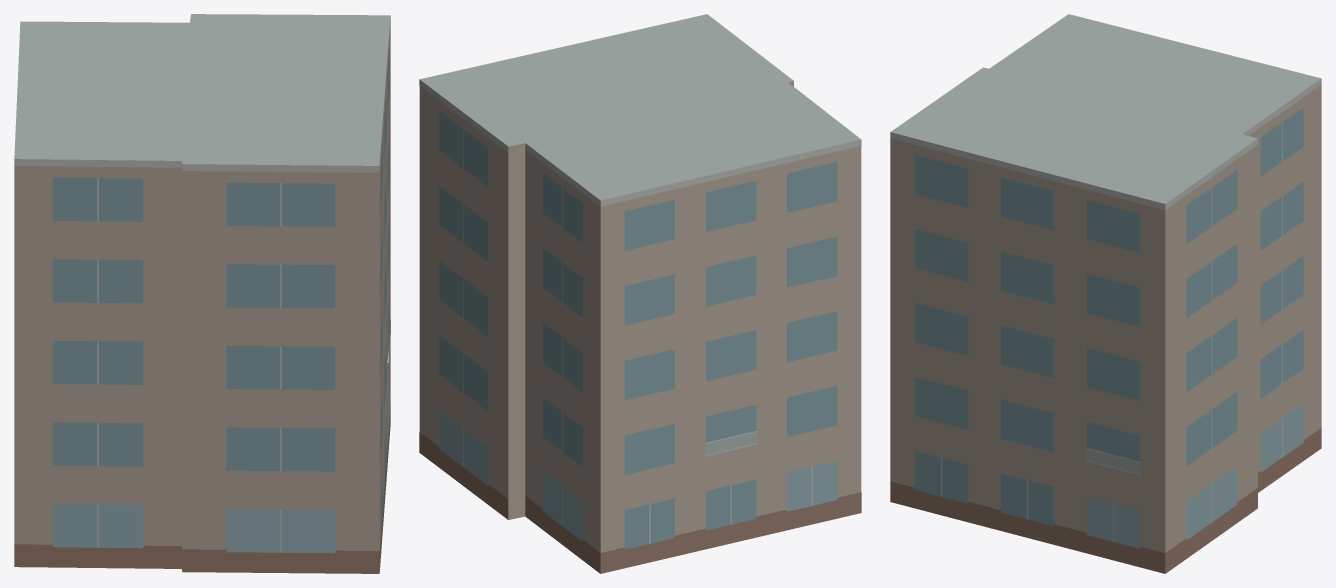
File: survey-upis-33016792.glb
The picture shows the model from 3 angles, left to right: view 1: azimuth 30°, elevation 25°; view 2: azimuth 150°, elevation 25°; view 3: azimuth 270°, elevation 25°; orthographic projection. The views are drawn at different scales.
Visible parts, largest first — view 1: survey-upis-33016792.tmp; view 2: survey-upis-33016792.tmp; view 3: survey-upis-33016792.tmp.
Part boxes in pixels (<box>): survey-upis-33016792.tmp: <box>14,14,390,573</box>; survey-upis-33016792.tmp: <box>419,14,861,573</box>; survey-upis-33016792.tmp: <box>890,14,1321,573</box>.
Bounding box in the file's own units: 16.03 × 14.54 × 15.38.
